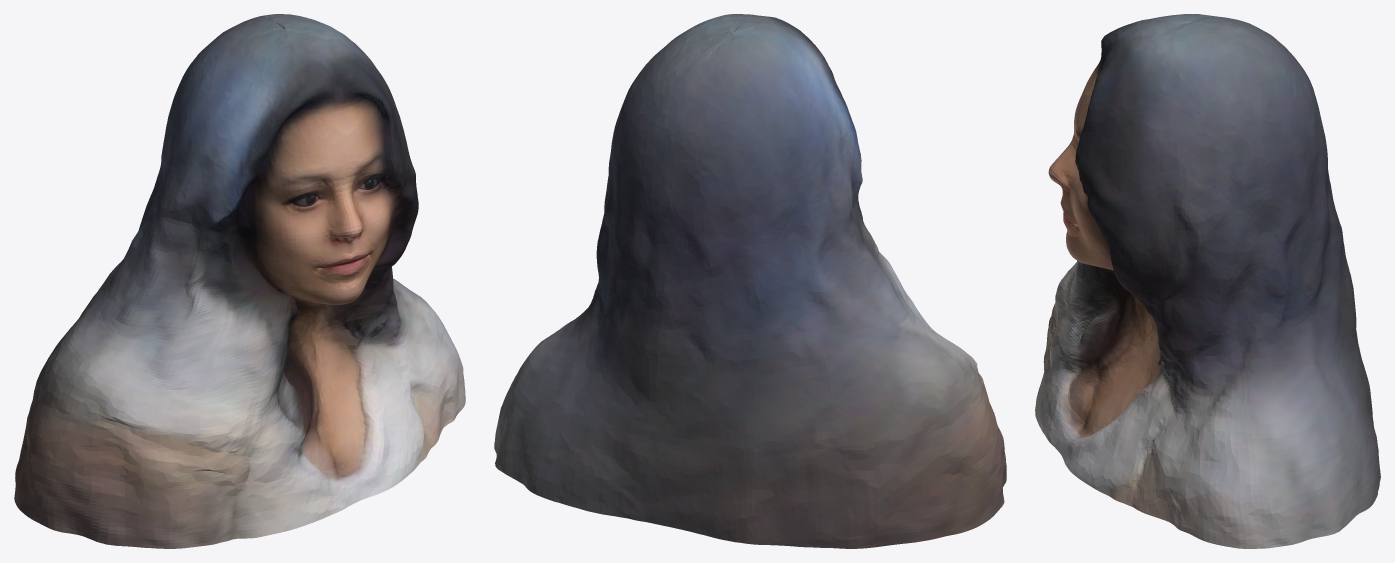
The model's file is luisa.glb.
3 views of the same model, side by side, from view 1: azimuth 30°, elevation 25°; view 2: azimuth 150°, elevation 25°; view 3: azimuth 270°, elevation 25° (orthographic).
Parts seen in each view (by area): view 1: Node1; view 2: Node1; view 3: Node1.
Boxes of the visible parts, x1,y1,x2,y2 form: Node1: (14, 14, 465, 548); Node1: (494, 14, 1006, 548); Node1: (1035, 14, 1380, 548).
Bounding box in the file's own units: 0.4219 × 0.376 × 0.2742.
Materials: 1 (1 with a texture image).
